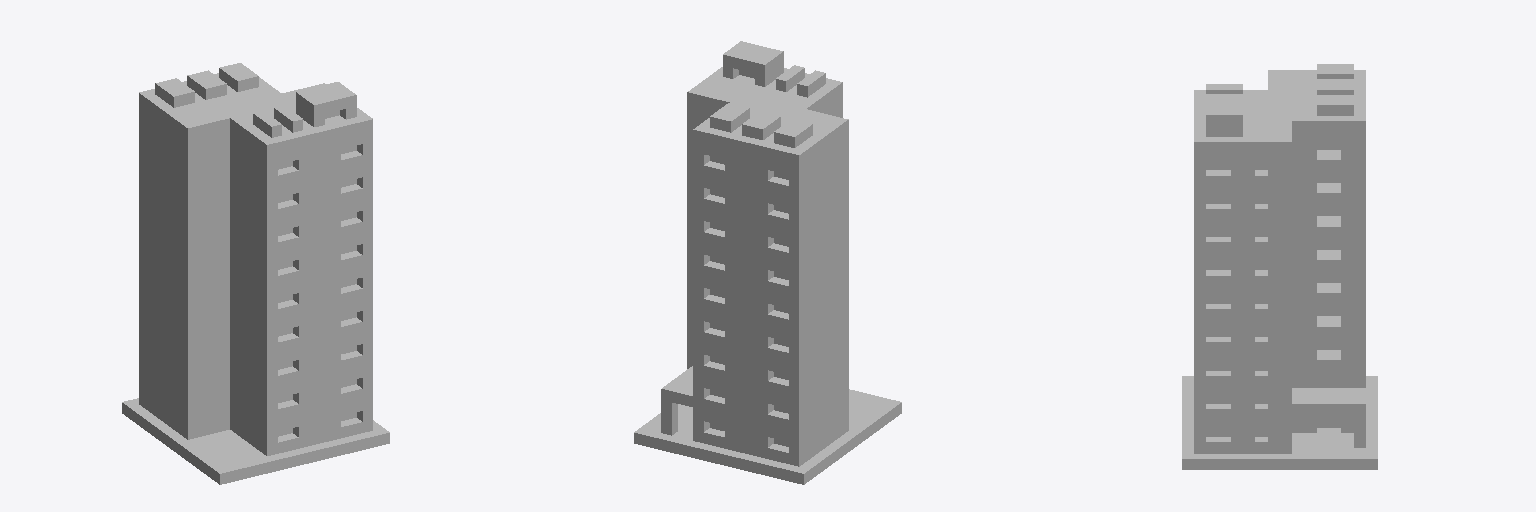
File: House2.obj
3 renders of one model, left to right at view 1: azimuth 30°, elevation 25°; view 2: azimuth 150°, elevation 25°; view 3: azimuth 270°, elevation 25°, orthographic.
Size of the model in its own units: 16 by 31 by 16.